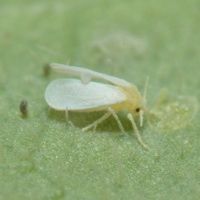insect: (44, 63, 147, 148)
